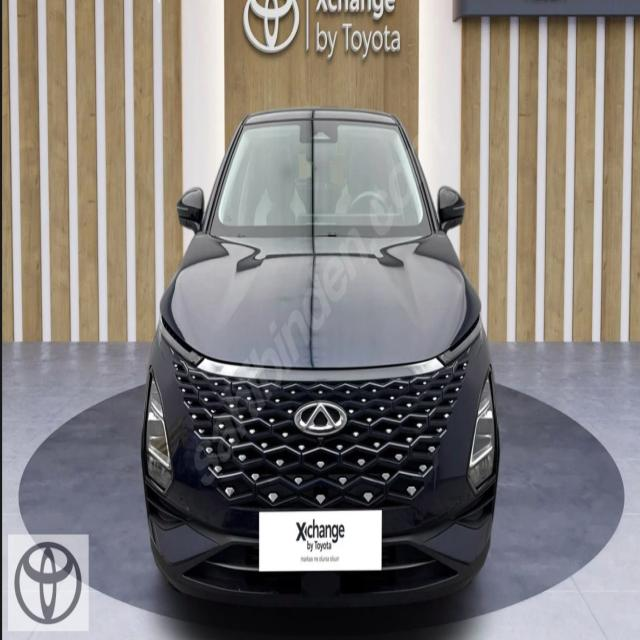cherry: (294, 399, 349, 437)
